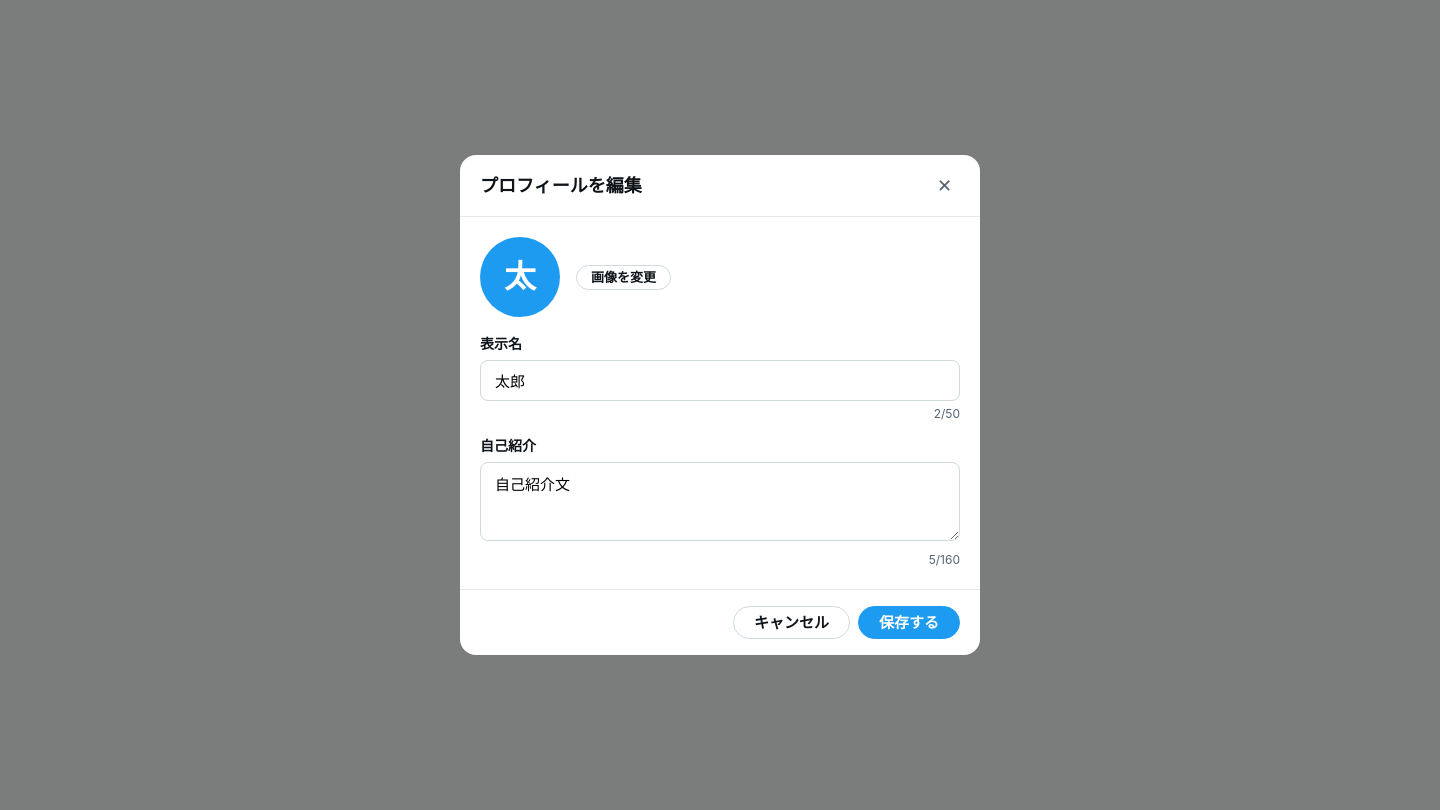
it: ProfileEditModal › 表示名を空にする（無効クラス）→ 保存するボタンが無効化される
The image size is (1440, 810).
Clear the field showing "太郎". click: (720, 380)
box: [480,360,960,401]
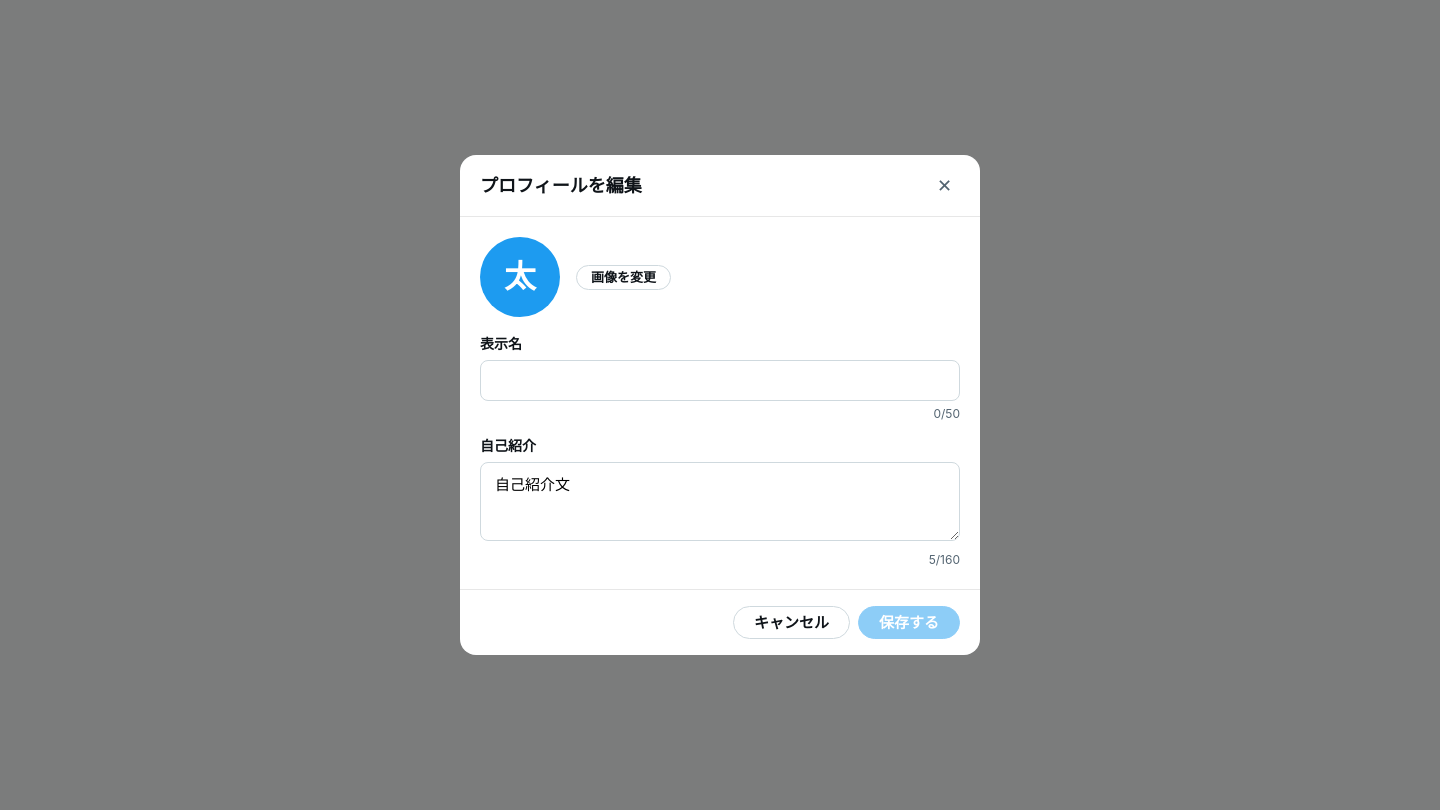
expect the button "保存する" is disabled: met, box [858,606,960,639]
